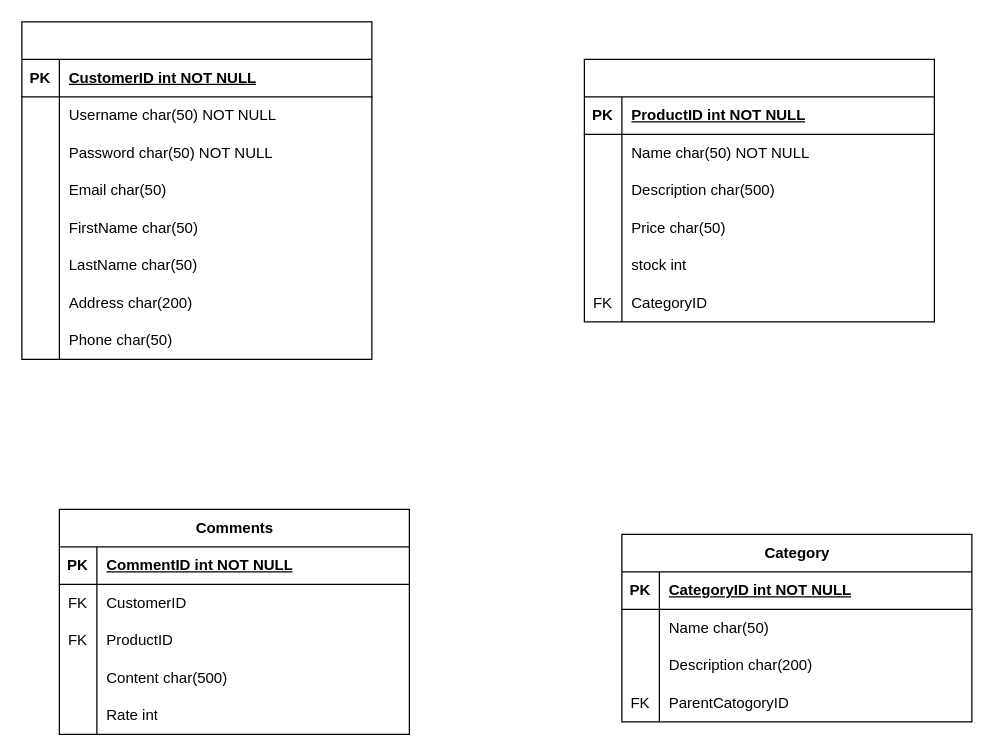
Image size: 994x756. Some labels were removed from this diagram. Here are the shapes that lost their labels. From the top down, the box of each, then its label:
(21, 21, 372, 359): Customers
(583, 58, 934, 322): Products
